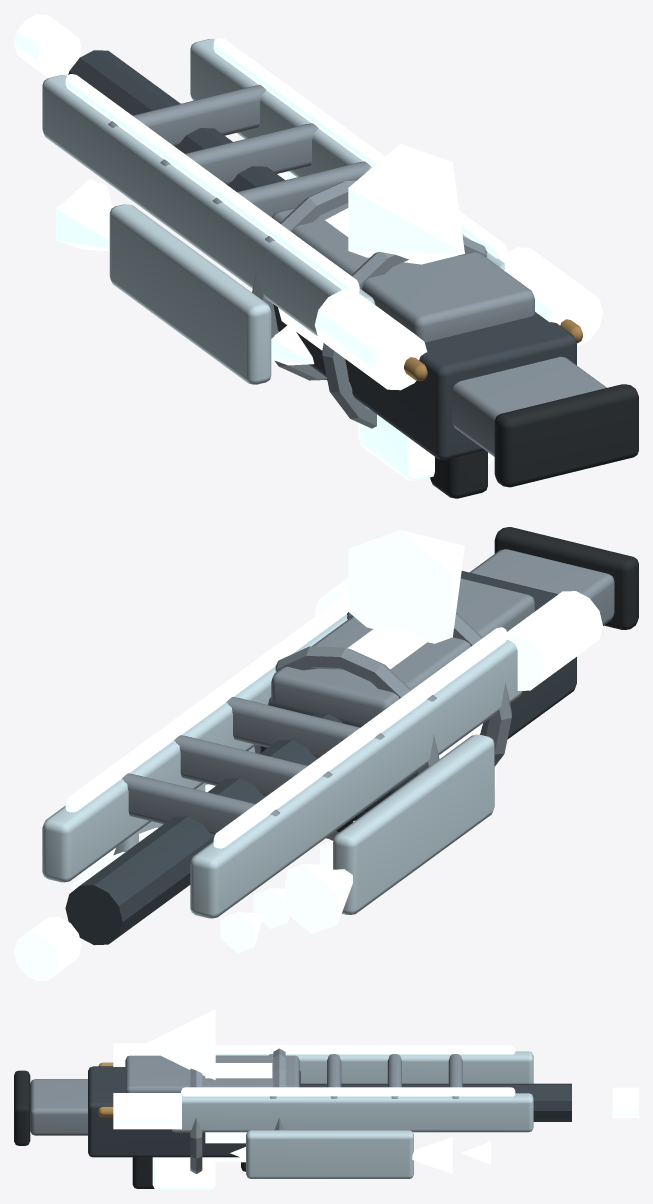
Rendered from zero-point.glb.
3 views of the same model, one above another, from view 1: azimuth 30°, elevation 25°; view 2: azimuth 150°, elevation 25°; view 3: azimuth 270°, elevation 25° (orthographic). The views are drawn at different scales.
Parts seen in each view (by area): view 1: ZERO-POINT / long rail, ZERO-POINT / stabilizer fin, ZERO-POINT / receiver, ZERO-POINT / upper armor, ZERO-POINT / zero point crown, ZERO-POINT / butt pad, ZERO-POINT / shoulder stock, ZERO-POINT / coolant flask, ZERO-POINT / rail conduit, ZERO-POINT / long rail.001, ZERO-POINT / cryo bore, ZERO-POINT / coolant flask.001 (+12 smaller); view 2: ZERO-POINT / long rail, ZERO-POINT / stabilizer fin, ZERO-POINT / cryo bore, ZERO-POINT / upper armor, ZERO-POINT / zero point crown, ZERO-POINT / long rail.001, ZERO-POINT / rail conduit, ZERO-POINT / rail conduit.001, ZERO-POINT / coolant flask, ZERO-POINT / butt pad, ZERO-POINT / shoulder stock, ZERO-POINT / rail clamp.002 (+10 smaller); view 3: ZERO-POINT / long rail.001, ZERO-POINT / stabilizer fin.001, ZERO-POINT / long rail, ZERO-POINT / receiver, ZERO-POINT / upper armor, ZERO-POINT / rail conduit.001, ZERO-POINT / shoulder stock, ZERO-POINT / rail conduit, ZERO-POINT / zero point crown, ZERO-POINT / cryo bore, ZERO-POINT / coolant flask.001, ZERO-POINT / power magazine (+12 smaller).
Boxes of the visible parts, x1,y1,x2,y2 form: ZERO-POINT / long rail: (42, 75, 375, 335); ZERO-POINT / stabilizer fin: (109, 204, 271, 384); ZERO-POINT / receiver: (273, 304, 576, 459); ZERO-POINT / upper armor: (272, 203, 534, 342); ZERO-POINT / zero point crown: (348, 143, 464, 264); ZERO-POINT / butt pad: (494, 384, 638, 487); ZERO-POINT / shoulder stock: (452, 356, 606, 456); ZERO-POINT / coolant flask: (314, 290, 427, 390); ZERO-POINT / rail conduit: (65, 74, 359, 292); ZERO-POINT / long rail.001: (190, 39, 505, 270); ZERO-POINT / cryo bore: (68, 50, 284, 191); ZERO-POINT / coolant flask.001: (499, 247, 602, 346); ZERO-POINT / long rail: (190, 640, 522, 918); ZERO-POINT / stabilizer fin: (333, 734, 494, 914); ZERO-POINT / cryo bore: (65, 713, 342, 945); ZERO-POINT / upper armor: (271, 578, 534, 724); ZERO-POINT / zero point crown: (348, 530, 464, 643); ZERO-POINT / long rail.001: (42, 614, 347, 882); ZERO-POINT / rail conduit: (213, 627, 507, 848); ZERO-POINT / rail conduit.001: (65, 592, 348, 812); ZERO-POINT / coolant flask: (507, 591, 602, 690); ZERO-POINT / butt pad: (494, 527, 638, 629); ZERO-POINT / shoulder stock: (469, 549, 614, 625); ZERO-POINT / rail clamp.002: (174, 735, 332, 796); ZERO-POINT / long rail.001: (172, 1093, 533, 1132); ZERO-POINT / stabilizer fin.001: (246, 1130, 413, 1178); ZERO-POINT / long rail: (215, 1051, 533, 1083); ZERO-POINT / receiver: (88, 1066, 300, 1157); ZERO-POINT / upper armor: (125, 1055, 299, 1092); ZERO-POINT / rail conduit.001: (181, 1087, 515, 1096); ZERO-POINT / shoulder stock: (30, 1079, 87, 1135); ZERO-POINT / rail conduit: (215, 1045, 515, 1054); ZERO-POINT / zero point crown: (141, 1009, 215, 1079); ZERO-POINT / cryo bore: (299, 1083, 571, 1121); ZERO-POINT / coolant flask.001: (113, 1093, 181, 1129); ZERO-POINT / power magazine: (152, 1157, 215, 1189).
Size of the model in its own units: 0.9332 by 0.96 by 3.09.
